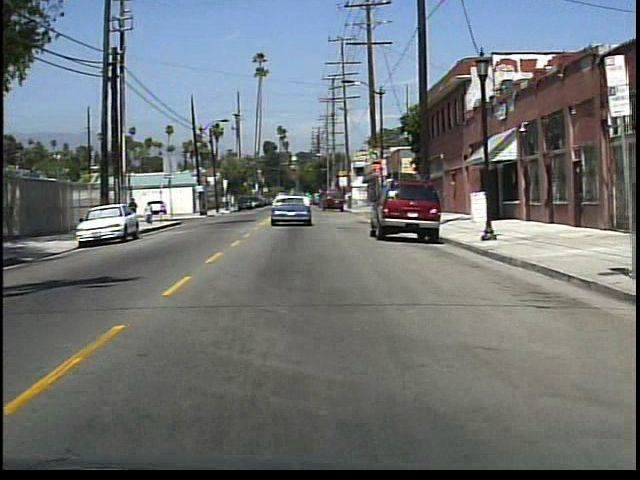person: (127, 195, 143, 228), (145, 199, 158, 227)
